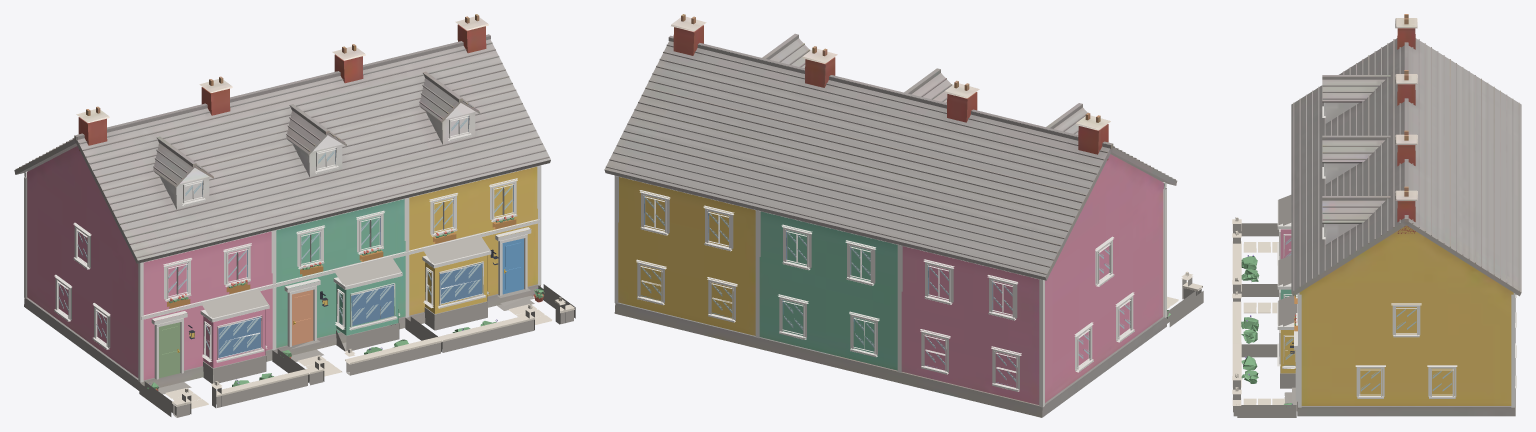
The model's file is terrace.glb.
3 views of the same model, side by side, from view 1: azimuth 30°, elevation 25°; view 2: azimuth 150°, elevation 25°; view 3: azimuth 270°, elevation 25° (orthographic). The views are drawn at different scales.
Visible parts, largest first — view 1: row-houses_body, row-houses_details, row-houses_glints, row-houses_door_1, row-houses_door_2, row-houses_door_3, row-houses_plants; view 2: row-houses_body, row-houses_details, row-houses_glints; view 3: row-houses_body, row-houses_details, row-houses_plants, row-houses_glints.
Part boxes in pixels (bbox=[...]): row-houses_body: bbox=[14, 14, 550, 390]; row-houses_details: bbox=[24, 115, 575, 417]; row-houses_glints: bbox=[58, 118, 512, 354]; row-houses_door_1: bbox=[159, 269, 506, 378]; row-houses_door_2: bbox=[292, 290, 313, 345]; row-houses_door_3: bbox=[502, 238, 523, 294]; row-houses_plants: bbox=[147, 217, 544, 389]; row-houses_body: bbox=[604, 14, 1177, 417]; row-houses_details: bbox=[614, 175, 1203, 407]; row-houses_glints: bbox=[642, 198, 1130, 382]; row-houses_body: bbox=[1291, 14, 1521, 416]; row-houses_details: bbox=[1232, 102, 1516, 417]; row-houses_plants: bbox=[1241, 255, 1297, 407]; row-houses_glints: bbox=[1285, 238, 1451, 391].
Bounding box in the file's own units: 18.7 × 10.31 × 12.12.
Materials: 19 (1 with a texture image).
